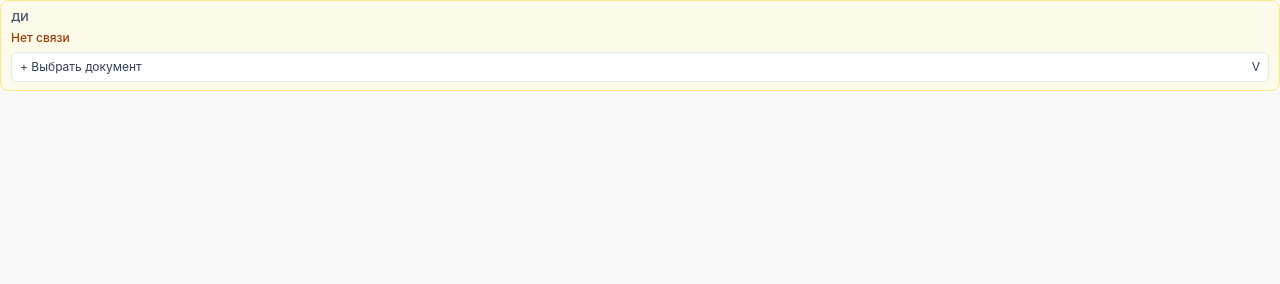
it: DocumentSearchCombobox › filters and selects a document with the keyboard
This screenshot has width=1280, height=284.
Later steps or results of the test are not shown.
Click the button with aria-label "Добавить ДИ для Инженер" at (81, 66), box 11,52 -> 1269,82
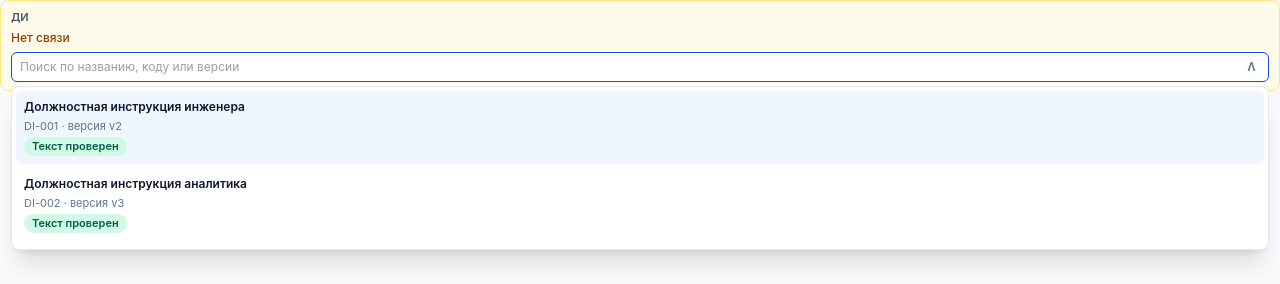
Type "аналитика" into the dropdown named "ДИ: документ для Инженер" at (630, 66), box 20,58 -> 1239,74
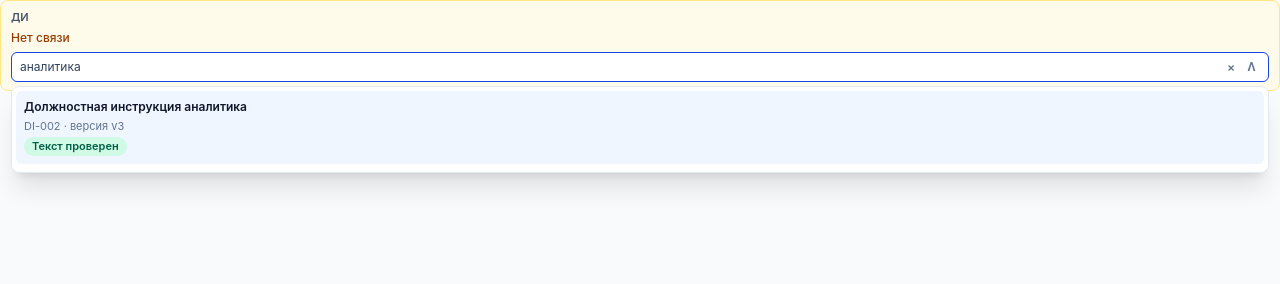
Now the option "Должностная инструкция аналитика" is shown, box 16,90 -> 1264,164
Now the option "Должностная инструкция инженера" is gone
